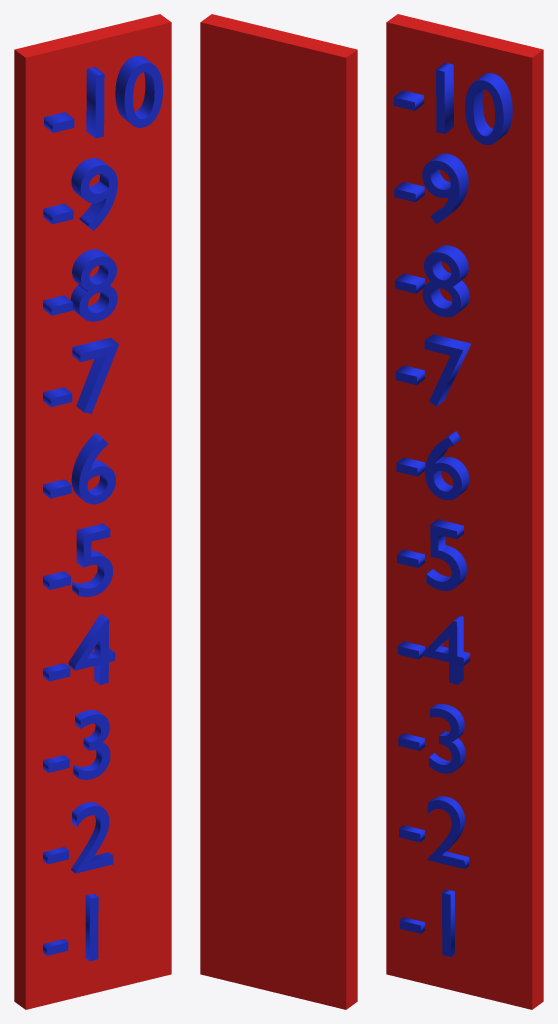
Rendered from reading.fbx.
3 views of the same model, side by side, from view 1: azimuth 30°, elevation 25°; view 2: azimuth 150°, elevation 25°; view 3: azimuth 330°, elevation 25° (orthographic).
Parts seen in each view (by area): view 1: BAck, Readings; view 2: BAck; view 3: BAck, Readings.
Boxes of the visible parts, bbox=[...] form: BAck: bbox=[14, 14, 171, 1009]; Readings: bbox=[43, 56, 162, 961]; BAck: bbox=[200, 14, 357, 1009]; BAck: bbox=[386, 14, 543, 1009]; Readings: bbox=[393, 62, 512, 956].
Bounding box in the file's own units: 50.27 × 314 × 12.93.
